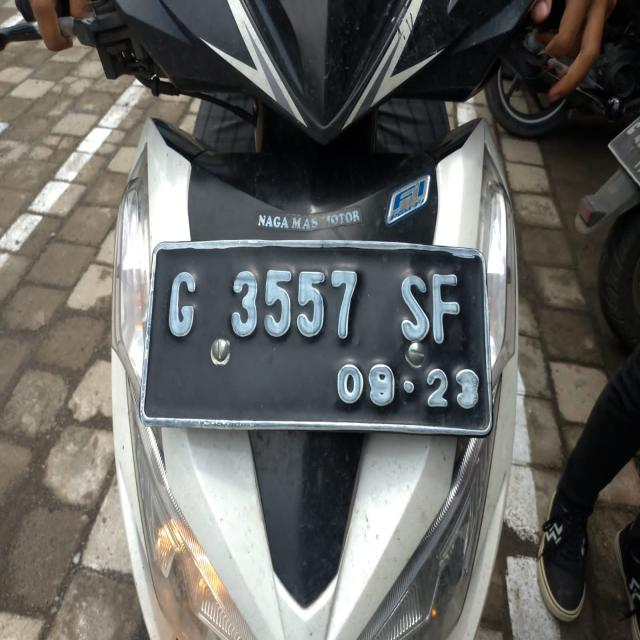plate: (151, 240, 489, 435)
